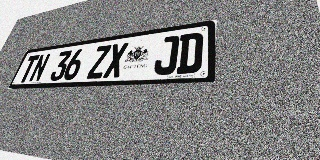3: (49, 50, 73, 81)
6: (62, 48, 86, 80)
D: (176, 32, 204, 74)
J: (153, 35, 180, 75)
N: (28, 53, 51, 82)
T: (17, 55, 40, 83)
X: (103, 42, 129, 78)
Z: (86, 45, 112, 79)
